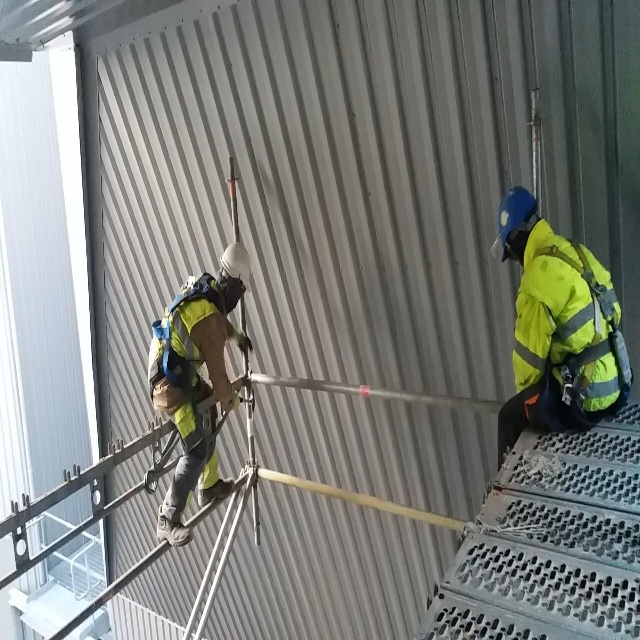Arnes_seguridad: (534, 228, 622, 412), (148, 268, 226, 412)
